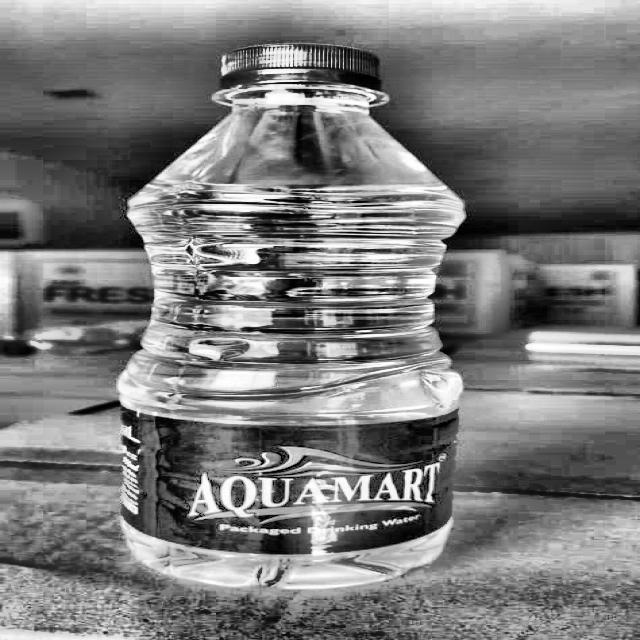waterbottle: (88, 34, 498, 596)
